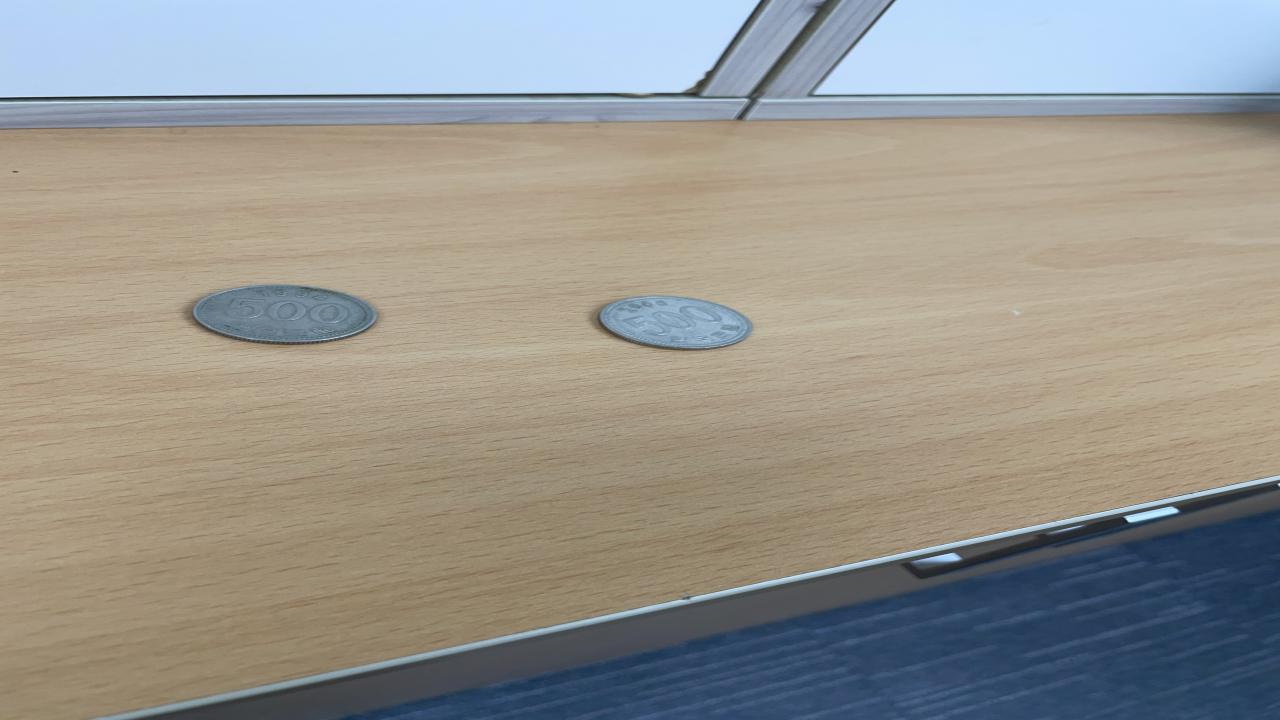coin: (186, 282, 382, 345), (596, 293, 756, 350)
